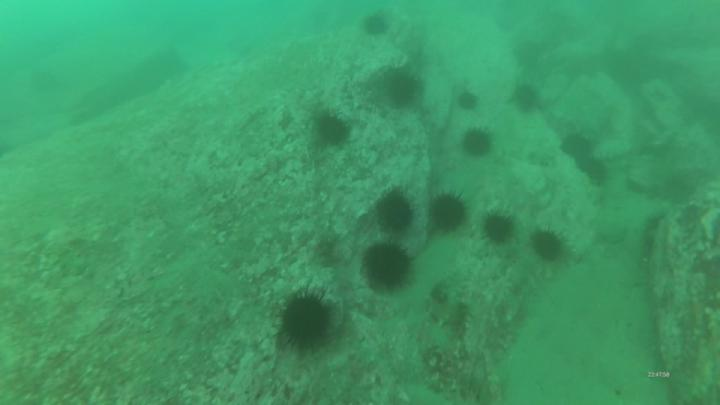echinus: (276, 286, 335, 353), (363, 241, 415, 291), (372, 186, 419, 237), (425, 191, 471, 238), (313, 110, 357, 152), (478, 210, 522, 250), (529, 227, 568, 266), (385, 73, 422, 113), (456, 126, 497, 160), (559, 132, 597, 164), (577, 156, 612, 188), (515, 39, 549, 71), (511, 82, 541, 113), (359, 13, 392, 41), (453, 91, 483, 114)
holothurian: (425, 296, 469, 330)
